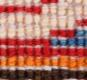Knot: (7, 39, 14, 45), (2, 6, 7, 12), (13, 6, 18, 12), (25, 39, 30, 45), (7, 6, 11, 12), (49, 0, 54, 2)
